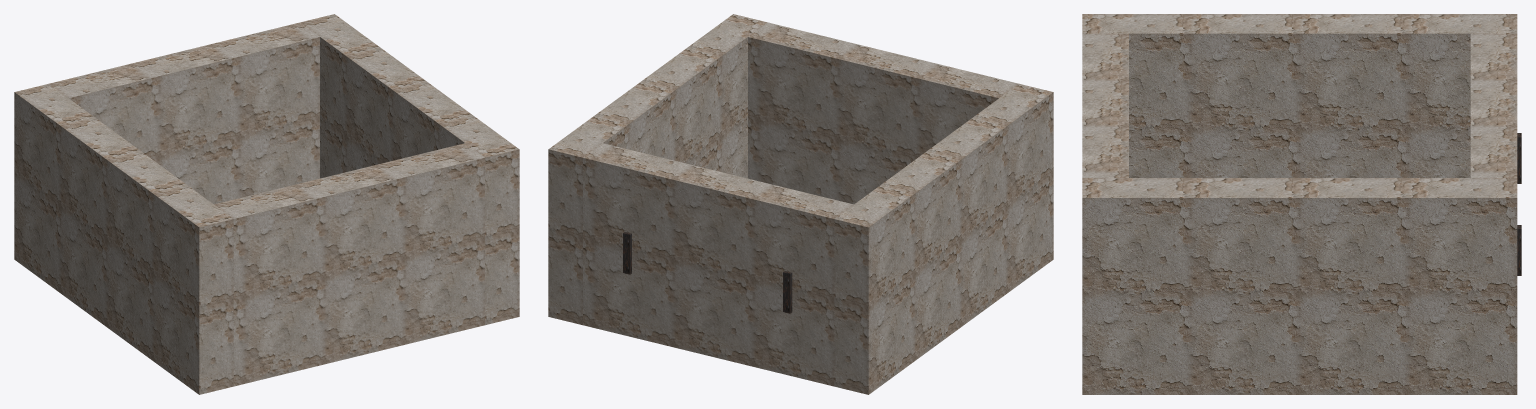
File: turm_quadratisch_geschoss_8m.glb
3 renders of one model, left to right at view 1: azimuth 30°, elevation 25°; view 2: azimuth 150°, elevation 25°; view 3: azimuth 270°, elevation 25°, orthographic. The views are drawn at different scales.
Parts seen in each view (by area): view 1: part_kalkputz_abgewittert; view 2: part_kalkputz_abgewittert, part_eisen_rustikal_rost; view 3: part_kalkputz_abgewittert, part_eisen_rustikal_rost.
Boxes of the visible parts, x1,y1,x2,y2 form: part_kalkputz_abgewittert: [14, 14, 519, 394]; part_kalkputz_abgewittert: [548, 14, 1053, 394]; part_eisen_rustikal_rost: [623, 232, 792, 313]; part_kalkputz_abgewittert: [1082, 14, 1517, 394]; part_eisen_rustikal_rost: [1517, 133, 1521, 275].
Size of the model in its own units: 8 by 4 by 8.08.
3 materials, 3 textured.
